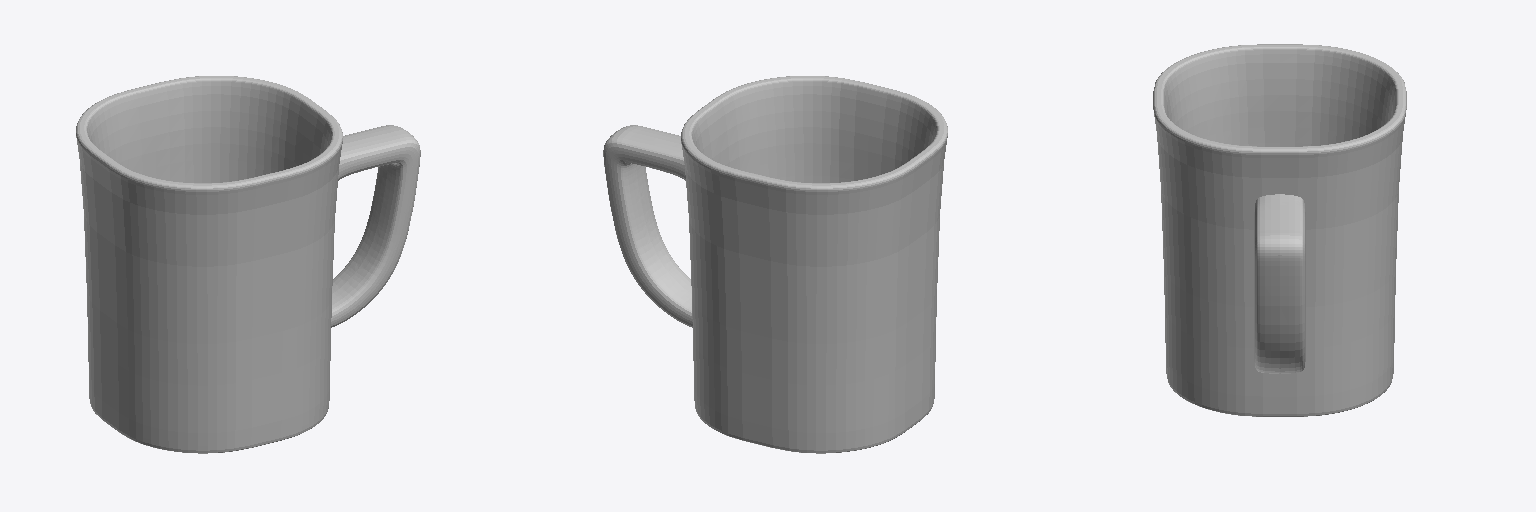
File: MSH_Taza.obj
3 views of the same model, side by side, from view 1: azimuth 30°, elevation 25°; view 2: azimuth 150°, elevation 25°; view 3: azimuth 270°, elevation 25° (orthographic).
Visible parts, largest first — view 1: MSH_Taza; view 2: MSH_Taza; view 3: MSH_Taza.
Part boxes in pixels (x1,y1,x2,y2): MSH_Taza: (76,76,420,453); MSH_Taza: (603,76,947,453); MSH_Taza: (1153,44,1406,416).
Size of the model in its own units: 30.51 by 25.46 by 21.4.